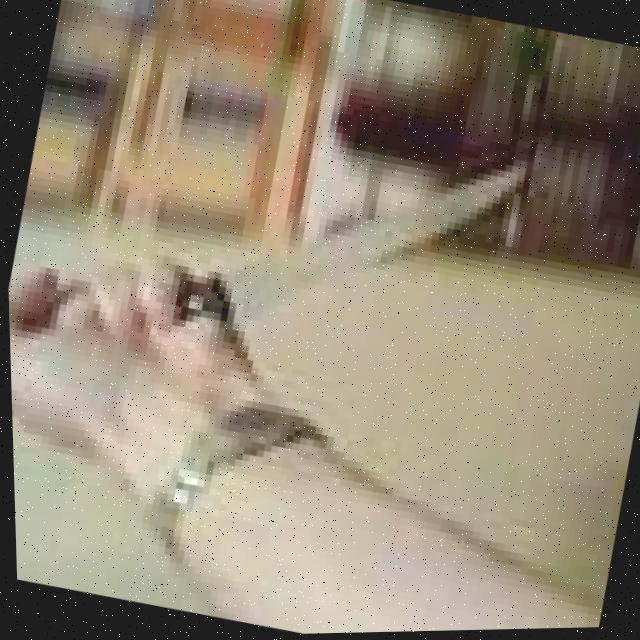knife: (178, 101, 535, 378)
